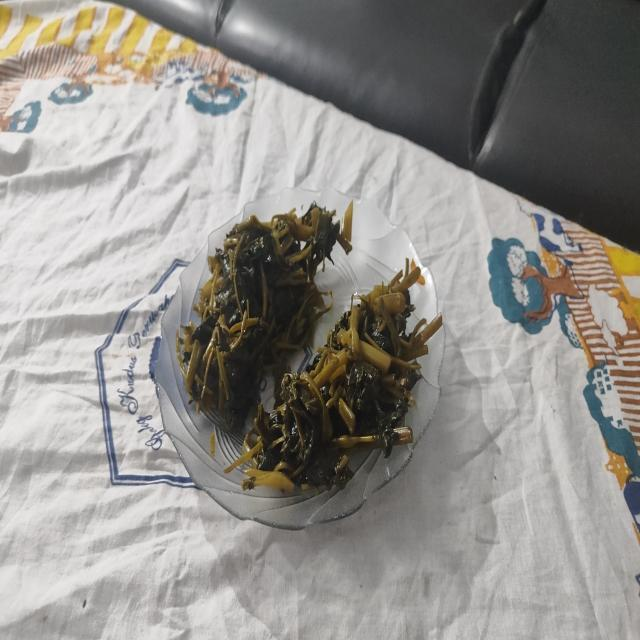tumis_kangkung: (239, 267, 442, 495), (184, 200, 353, 428)
